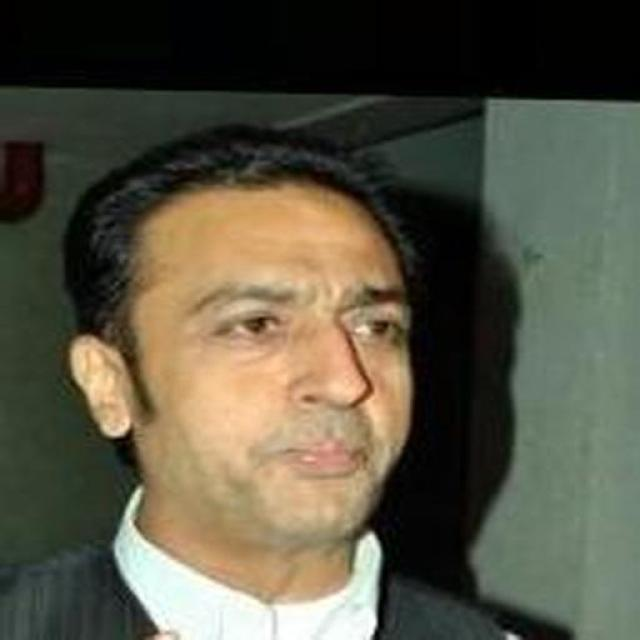bareface: (55, 128, 414, 530)
